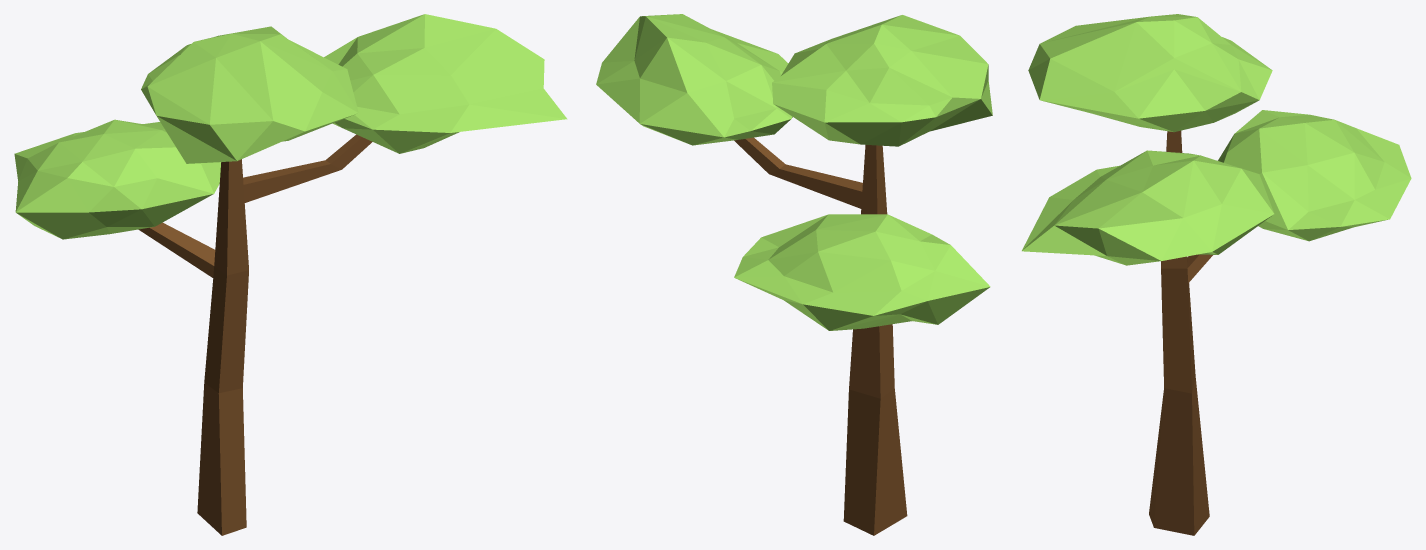
The model's file is Tree_3.fbx.
The picture shows the model from 3 angles, left to right: view 1: azimuth 30°, elevation 25°; view 2: azimuth 150°, elevation 25°; view 3: azimuth 270°, elevation 25°; orthographic projection. The views are drawn at different scales.
Parts seen in each view (by area): view 1: Leaf3, Leaf, Wood, Leaf2; view 2: Leaf, Leaf2, Leaf3, Wood; view 3: Leaf, Leaf3, Leaf2, Wood.
Boxes of the visible parts, x1,y1,x2,y2 form: Leaf3: (324,14,567,153); Leaf: (141,26,358,163); Wood: (138,134,372,535); Leaf2: (14,119,221,239); Leaf: (772,15,992,146); Leaf2: (734,214,990,330); Leaf3: (596,14,792,145); Wood: (734,137,907,535); Leaf: (1028,14,1272,132); Leaf3: (1022,150,1274,265); Leaf2: (1218,110,1411,241); Wood: (1149,130,1212,535).
Bounding box in the file's own units: 2646 × 2745 × 1909.
